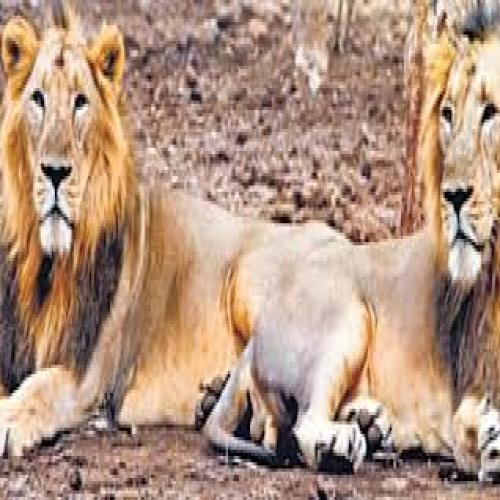lion-endangered: (0, 20, 343, 455), (207, 8, 499, 481)
